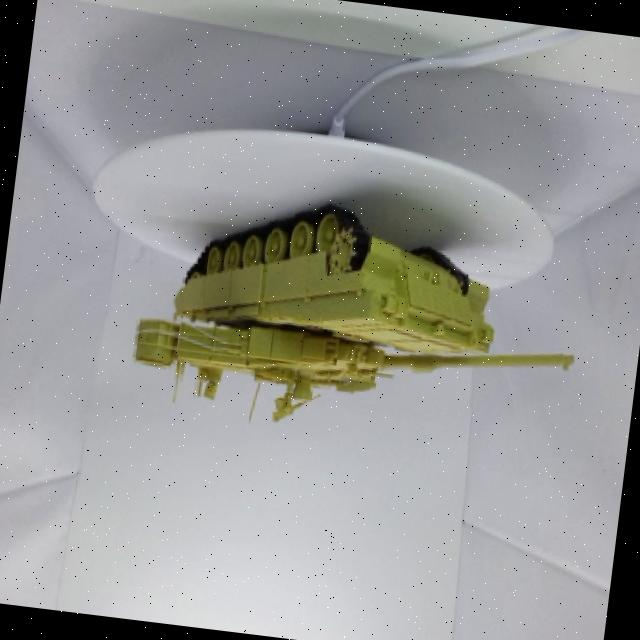korea tank: (110, 172, 612, 476)
